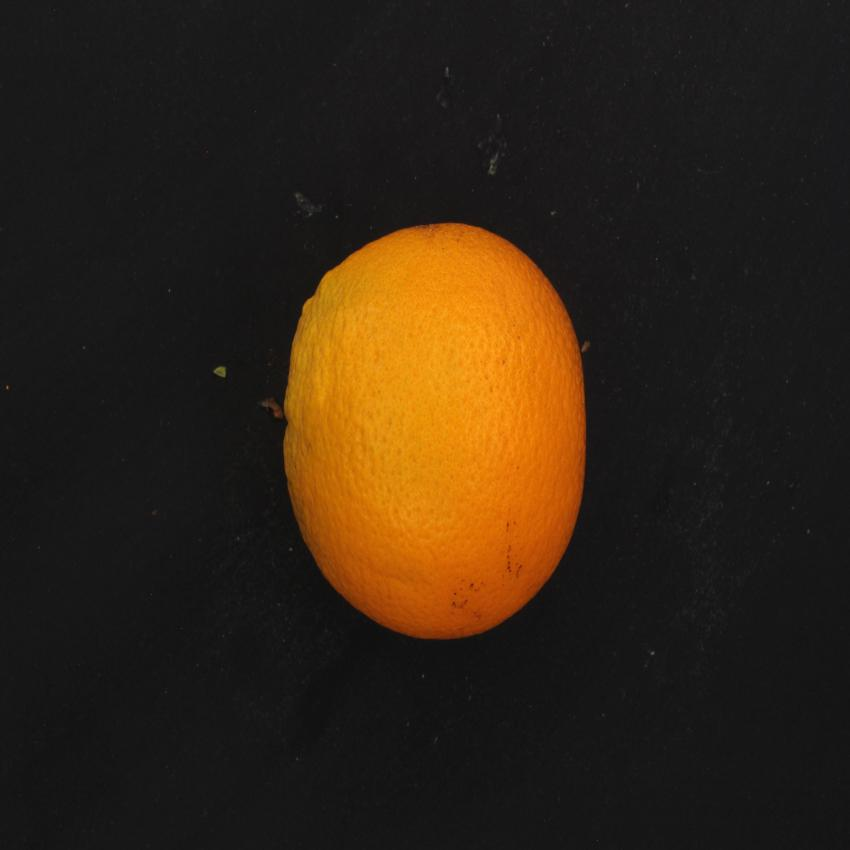Buen estado: (258, 214, 597, 655)
